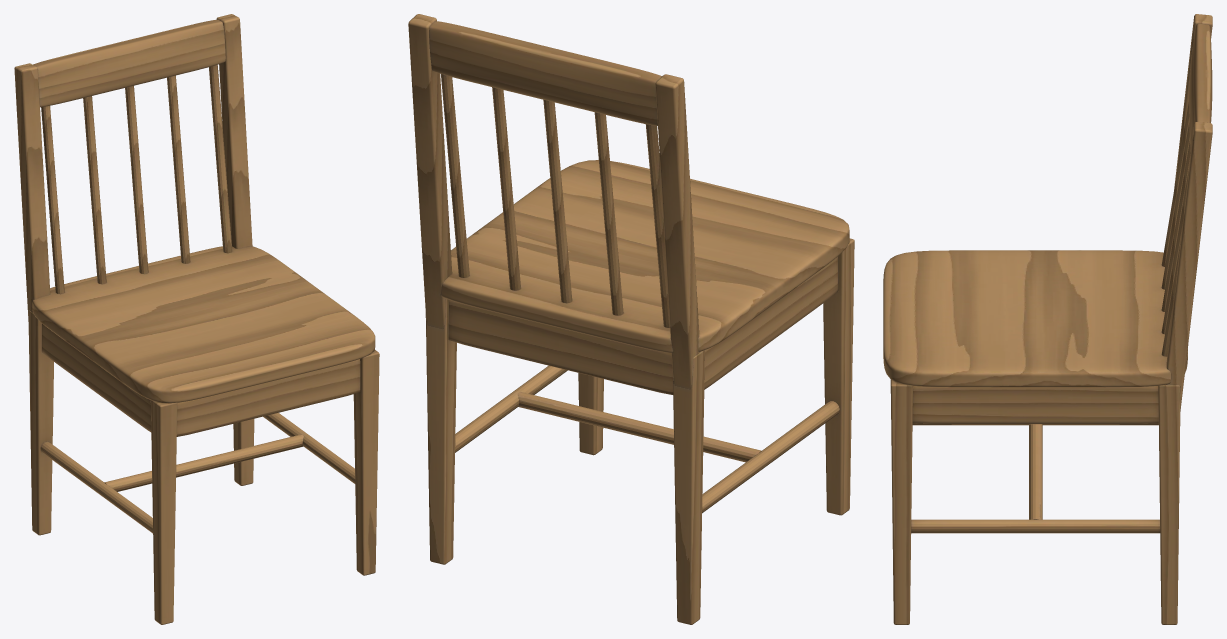
The model's file is oak-spindle.glb.
3 views of the same model, side by side, from view 1: azimuth 30°, elevation 25°; view 2: azimuth 150°, elevation 25°; view 3: azimuth 270°, elevation 25° (orthographic). The views are drawn at different scales.
Parts seen in each view (by area): view 1: wood_h, wood_v, wood_hy; view 2: wood_h, wood_v, wood_hy; view 3: wood_h, wood_v, wood_hy.
Boxes of the visible parts, <box> form: wood_h: <box>32,19,375,491</box>; wood_v: <box>14,14,379,624</box>; wood_hy: <box>40,323,355,533</box>; wood_h: <box>429,21,849,462</box>; wood_v: <box>408,14,854,624</box>; wood_hy: <box>455,256,839,513</box>; wood_h: <box>883,23,1212,519</box>; wood_v: <box>890,14,1212,624</box>; wood_hy: <box>911,385,1160,533</box>.
Size of the model in its own units: 0.47 by 0.8811 by 0.5295.
Materials: 3 (3 with a texture image).
